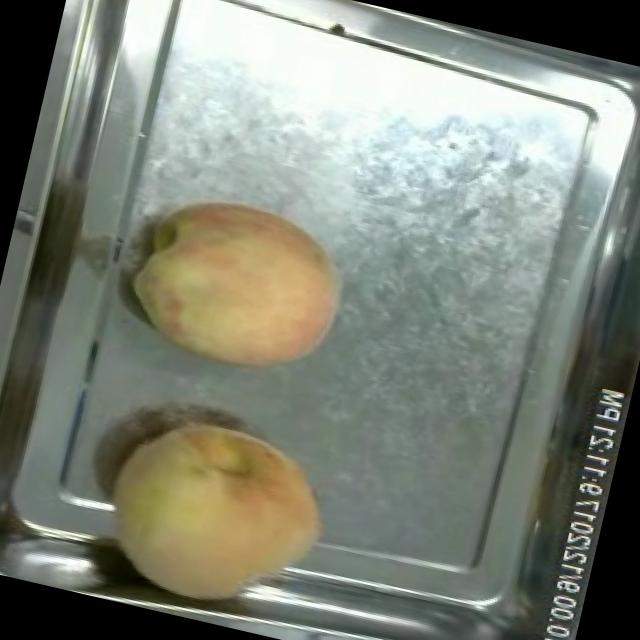Fruit: (81, 394, 352, 635), (112, 172, 364, 396)
